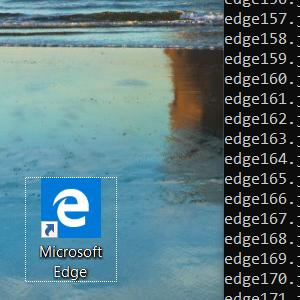edge: (40, 178, 102, 239)
